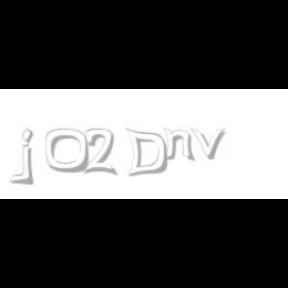2: (82, 128, 116, 176)
D: (124, 128, 168, 178)
O: (46, 128, 90, 174)
j: (18, 128, 48, 186)
n: (162, 128, 196, 162)
v: (189, 128, 229, 160)
